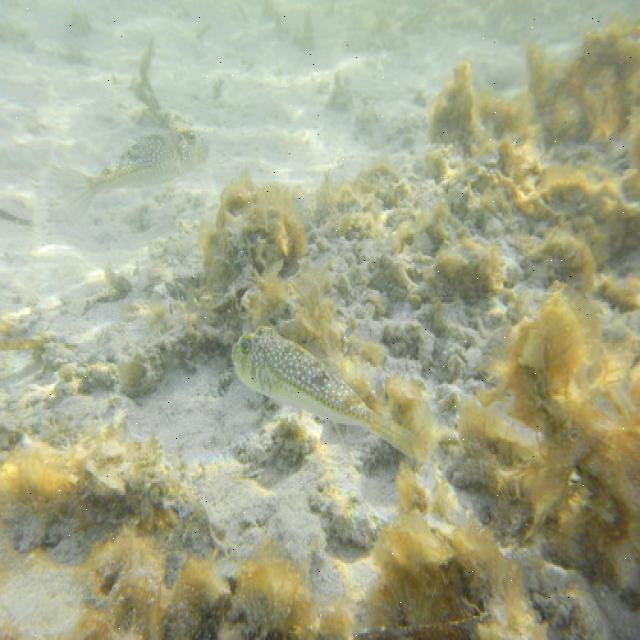Balik: (232, 326, 421, 459), (64, 128, 208, 211)
